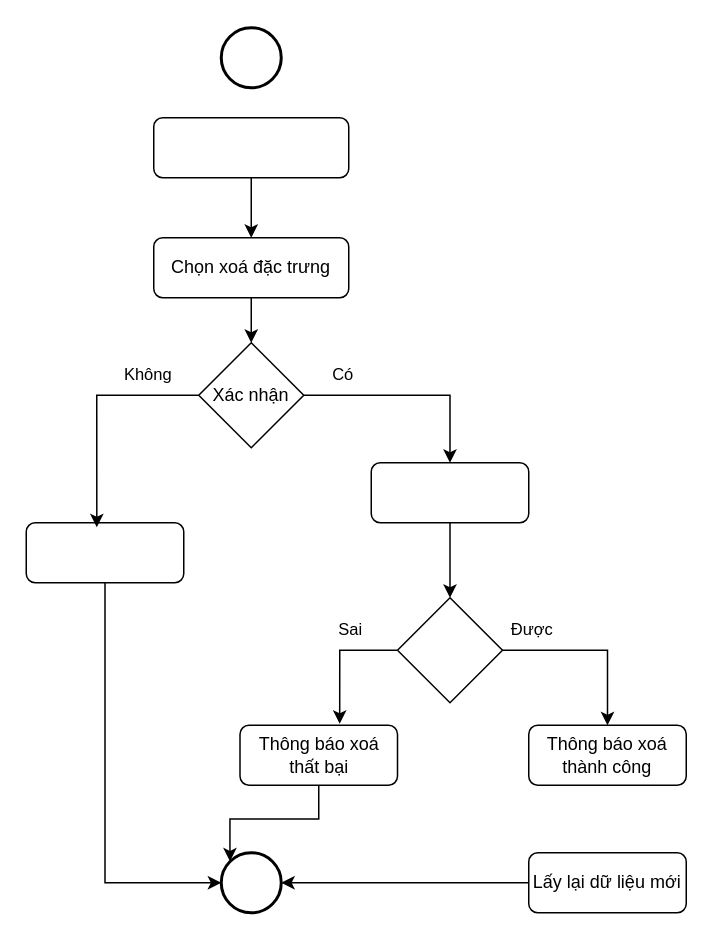
Some shapes in this 713 by 939 pixel diagram are drawn without their labels. The shapes that lost their labels are listed below. From the top down, each one's centre as x and y in pixels, then its label:
At (x=250, y=147): "Danh sách đặc trưng".
At (x=449, y=492): "Xoá".
At (x=104, y=552): "Huỷ".
